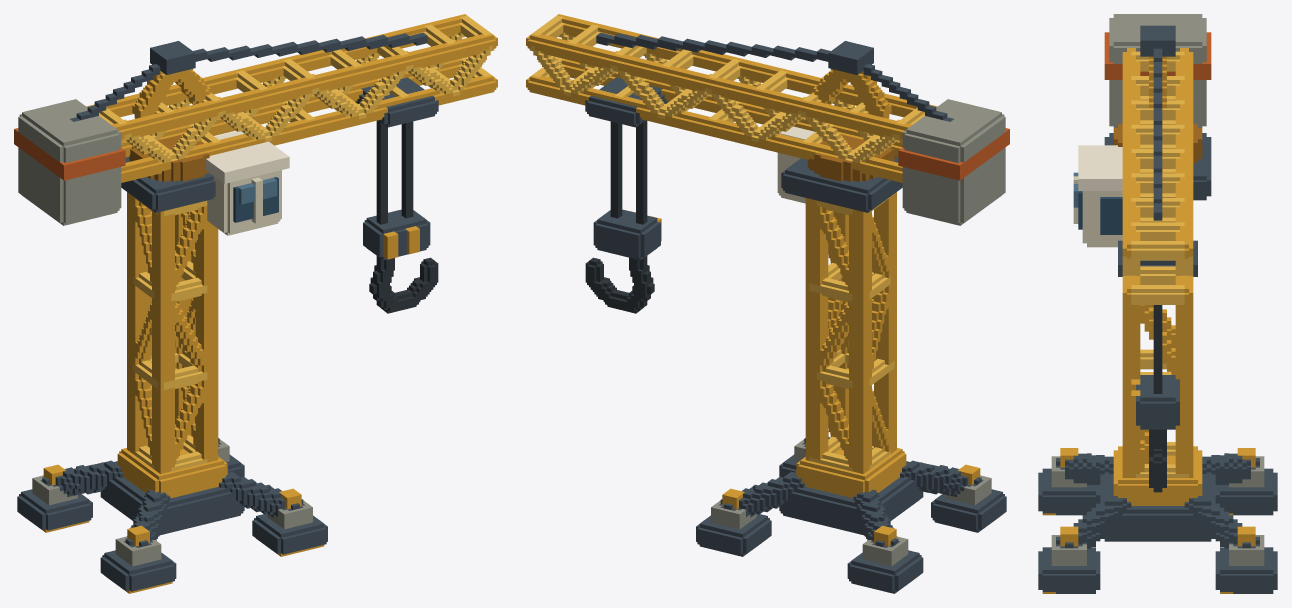
The model's file is tower_crane.glb.
The picture shows the model from 3 angles, left to right: view 1: azimuth 30°, elevation 25°; view 2: azimuth 150°, elevation 25°; view 3: azimuth 270°, elevation 25°; orthographic projection. The views are drawn at different scales.
Parts seen in each view (by area): view 1: tower_crane; view 2: tower_crane; view 3: tower_crane.
Part boxes in pixels (bbox=[...]): tower_crane: bbox=[14, 14, 497, 593]; tower_crane: bbox=[526, 14, 1009, 593]; tower_crane: bbox=[1038, 14, 1277, 593].
Bounding box in the file's own units: 8 × 8.26 × 3.51.
